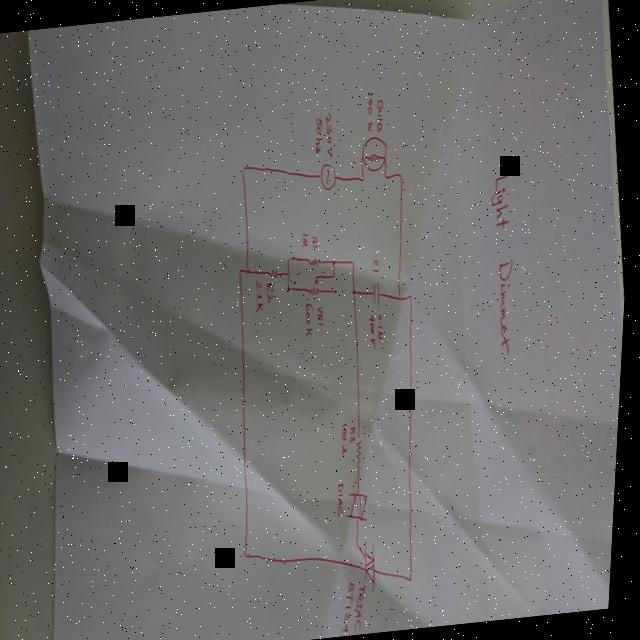capacitor: (373, 278, 386, 310)
junction: (354, 286, 360, 298), (414, 570, 420, 582), (289, 282, 296, 292), (249, 265, 256, 274), (242, 163, 248, 173), (289, 254, 296, 262), (248, 548, 254, 557), (400, 291, 405, 301), (334, 258, 340, 266), (335, 286, 341, 294), (288, 268, 294, 276), (353, 258, 358, 266), (362, 174, 367, 182), (401, 170, 406, 178), (361, 539, 366, 547), (411, 292, 417, 298), (335, 270, 339, 278), (385, 172, 390, 178), (241, 266, 246, 272)
resistor: (358, 432, 370, 463), (309, 272, 324, 295), (309, 254, 325, 267), (271, 264, 283, 278)
source: (318, 160, 340, 191)
text: (483, 170, 530, 355), (342, 579, 366, 632), (356, 582, 377, 632), (323, 109, 338, 159), (364, 88, 379, 132), (313, 114, 328, 154), (305, 299, 321, 336), (254, 276, 269, 314), (375, 96, 389, 132), (343, 419, 356, 454), (340, 480, 353, 515), (370, 312, 382, 348), (267, 278, 280, 306), (378, 311, 388, 338), (318, 302, 329, 325), (302, 230, 313, 247), (372, 256, 383, 272), (353, 423, 362, 442), (312, 232, 322, 249)
